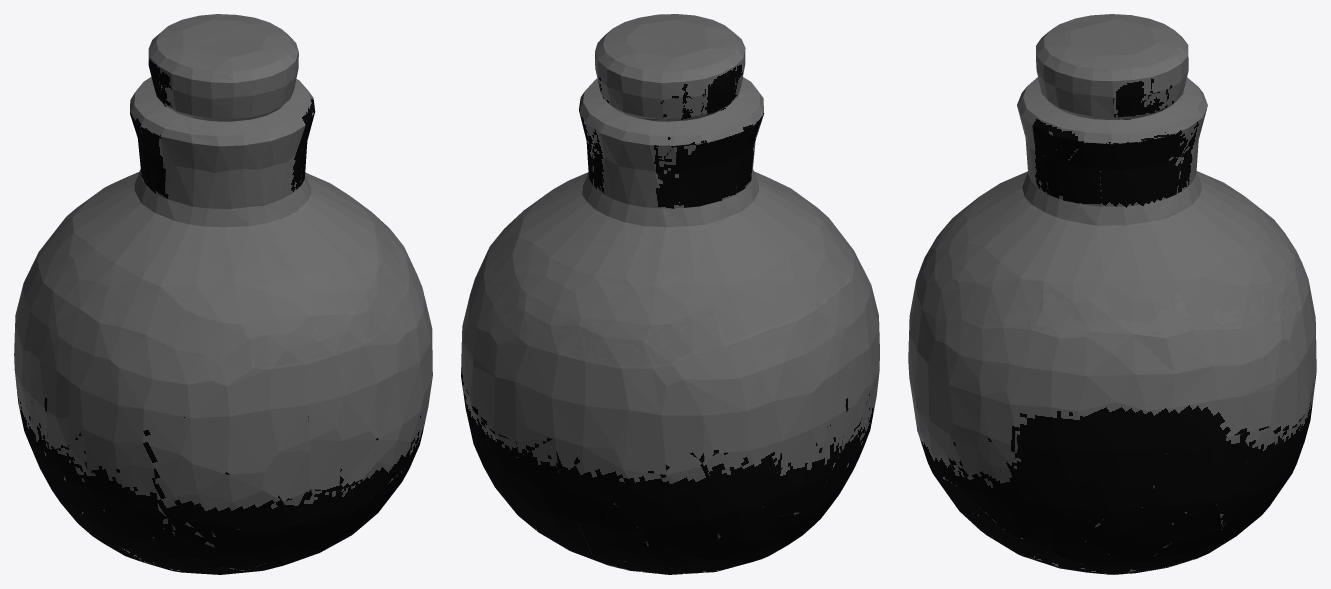
3 renders of one model, left to right at view 1: azimuth 30°, elevation 25°; view 2: azimuth 150°, elevation 25°; view 3: azimuth 270°, elevation 25°, orthographic.
Parts seen in each view (by area): view 1: OBJ12d; view 2: OBJ12d; view 3: OBJ12d.
Boxes of the visible parts, bbox=[...] form: OBJ12d: bbox=[14, 14, 432, 574]; OBJ12d: bbox=[461, 14, 879, 574]; OBJ12d: bbox=[908, 14, 1316, 574].
Bounding box in the file's own units: 0.1613 × 0.2229 × 0.1615.
1 material, 1 textured.
